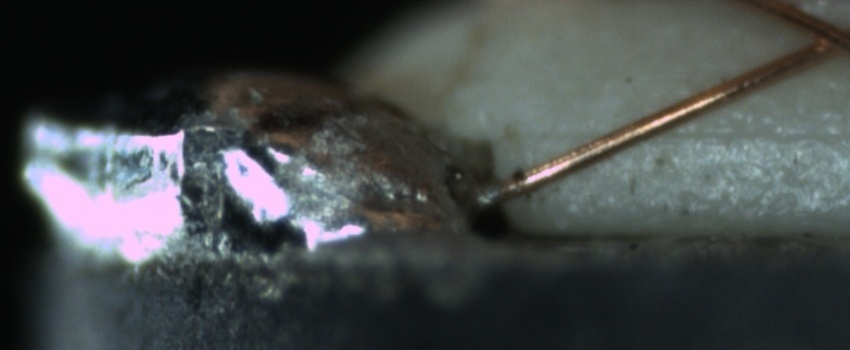CL: (791, 11, 849, 63)
DL: (531, 105, 850, 167)
